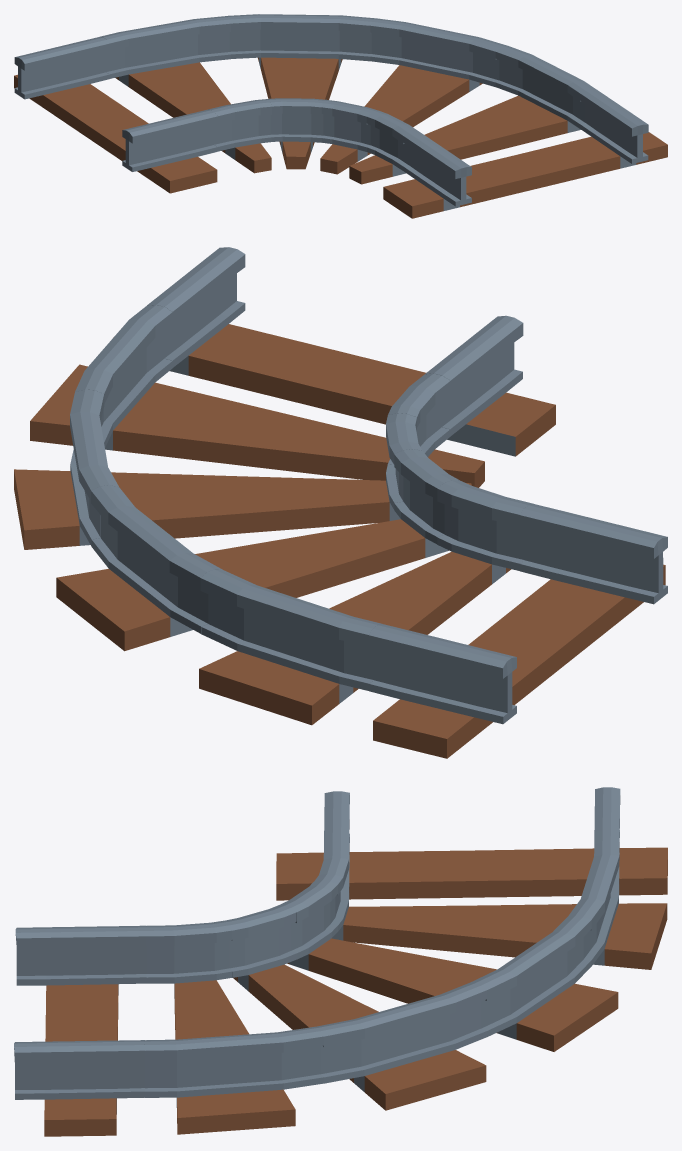
The model's file is trilho_curvo1.glb.
The picture shows the model from 3 angles, top to bottom: view 1: azimuth 30°, elevation 25°; view 2: azimuth 150°, elevation 25°; view 3: azimuth 270°, elevation 25°; orthographic projection. The views are drawn at different scales.
Parts seen in each view (by area): view 1: trilho_curvo; view 2: trilho_curvo; view 3: trilho_curvo.
Boxes of the visible parts, x1,y1,x2,y2 form: trilho_curvo: (14,14,667,218); trilho_curvo: (14,247,667,758); trilho_curvo: (14,787,667,1136).
Bounding box in the file's own units: 14.69 × 1.6 × 14.3.
